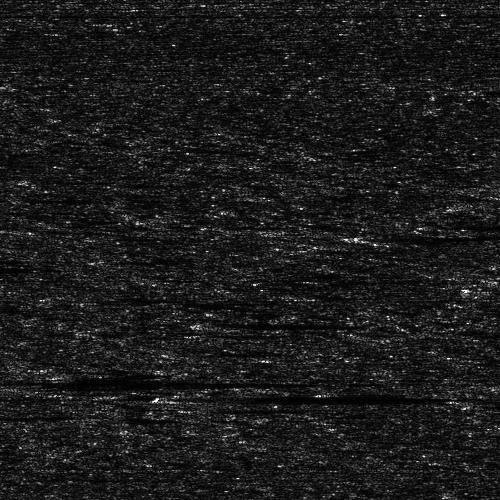rock: (0, 377, 49, 388), (161, 406, 224, 413), (188, 321, 241, 326), (334, 232, 387, 237), (166, 392, 197, 399), (0, 82, 29, 87), (0, 411, 7, 420)
shadow: (0, 377, 241, 388), (215, 321, 354, 326), (361, 232, 500, 237), (193, 406, 284, 413), (0, 261, 55, 272), (0, 411, 59, 420), (182, 392, 227, 399), (14, 82, 62, 87)
